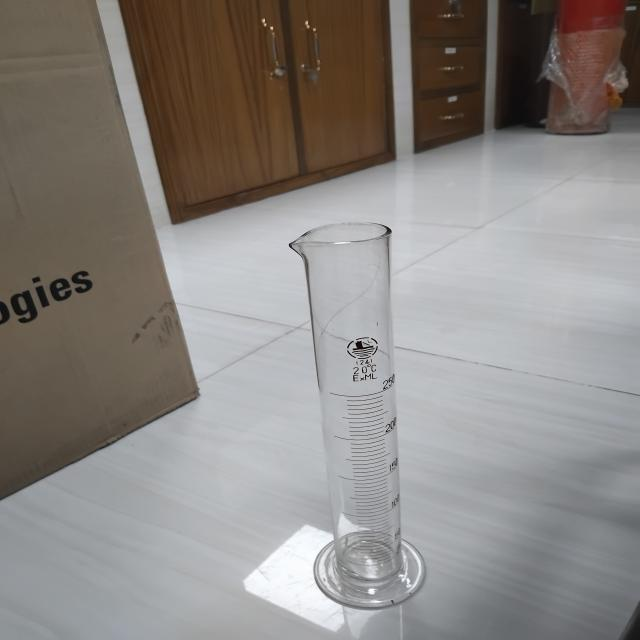Measuring_Cylinder: (246, 188, 469, 630)
